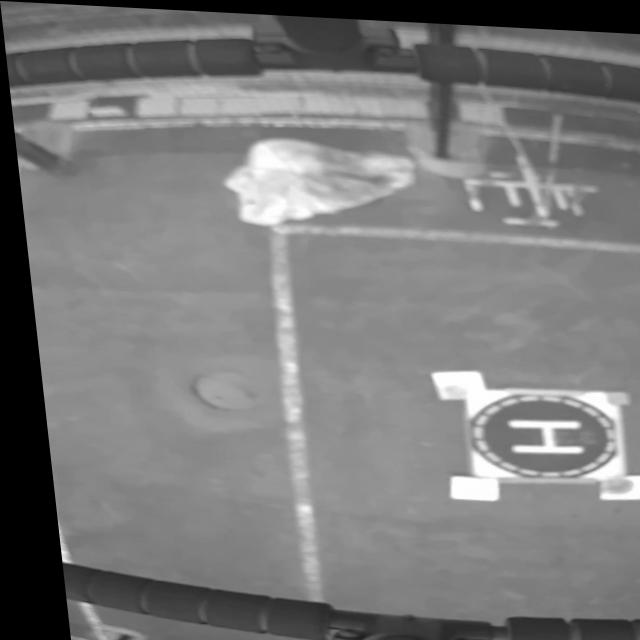Helipad: (493, 412, 580, 449)
